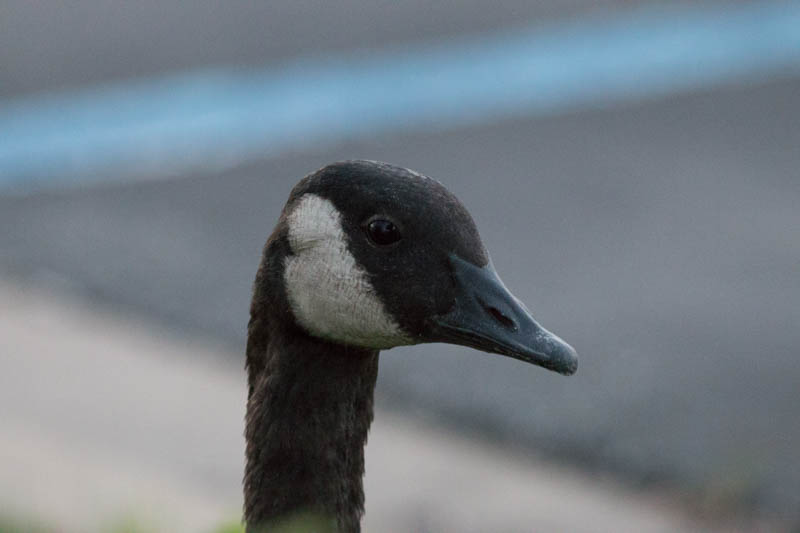goose-head: (246, 157, 580, 378)
